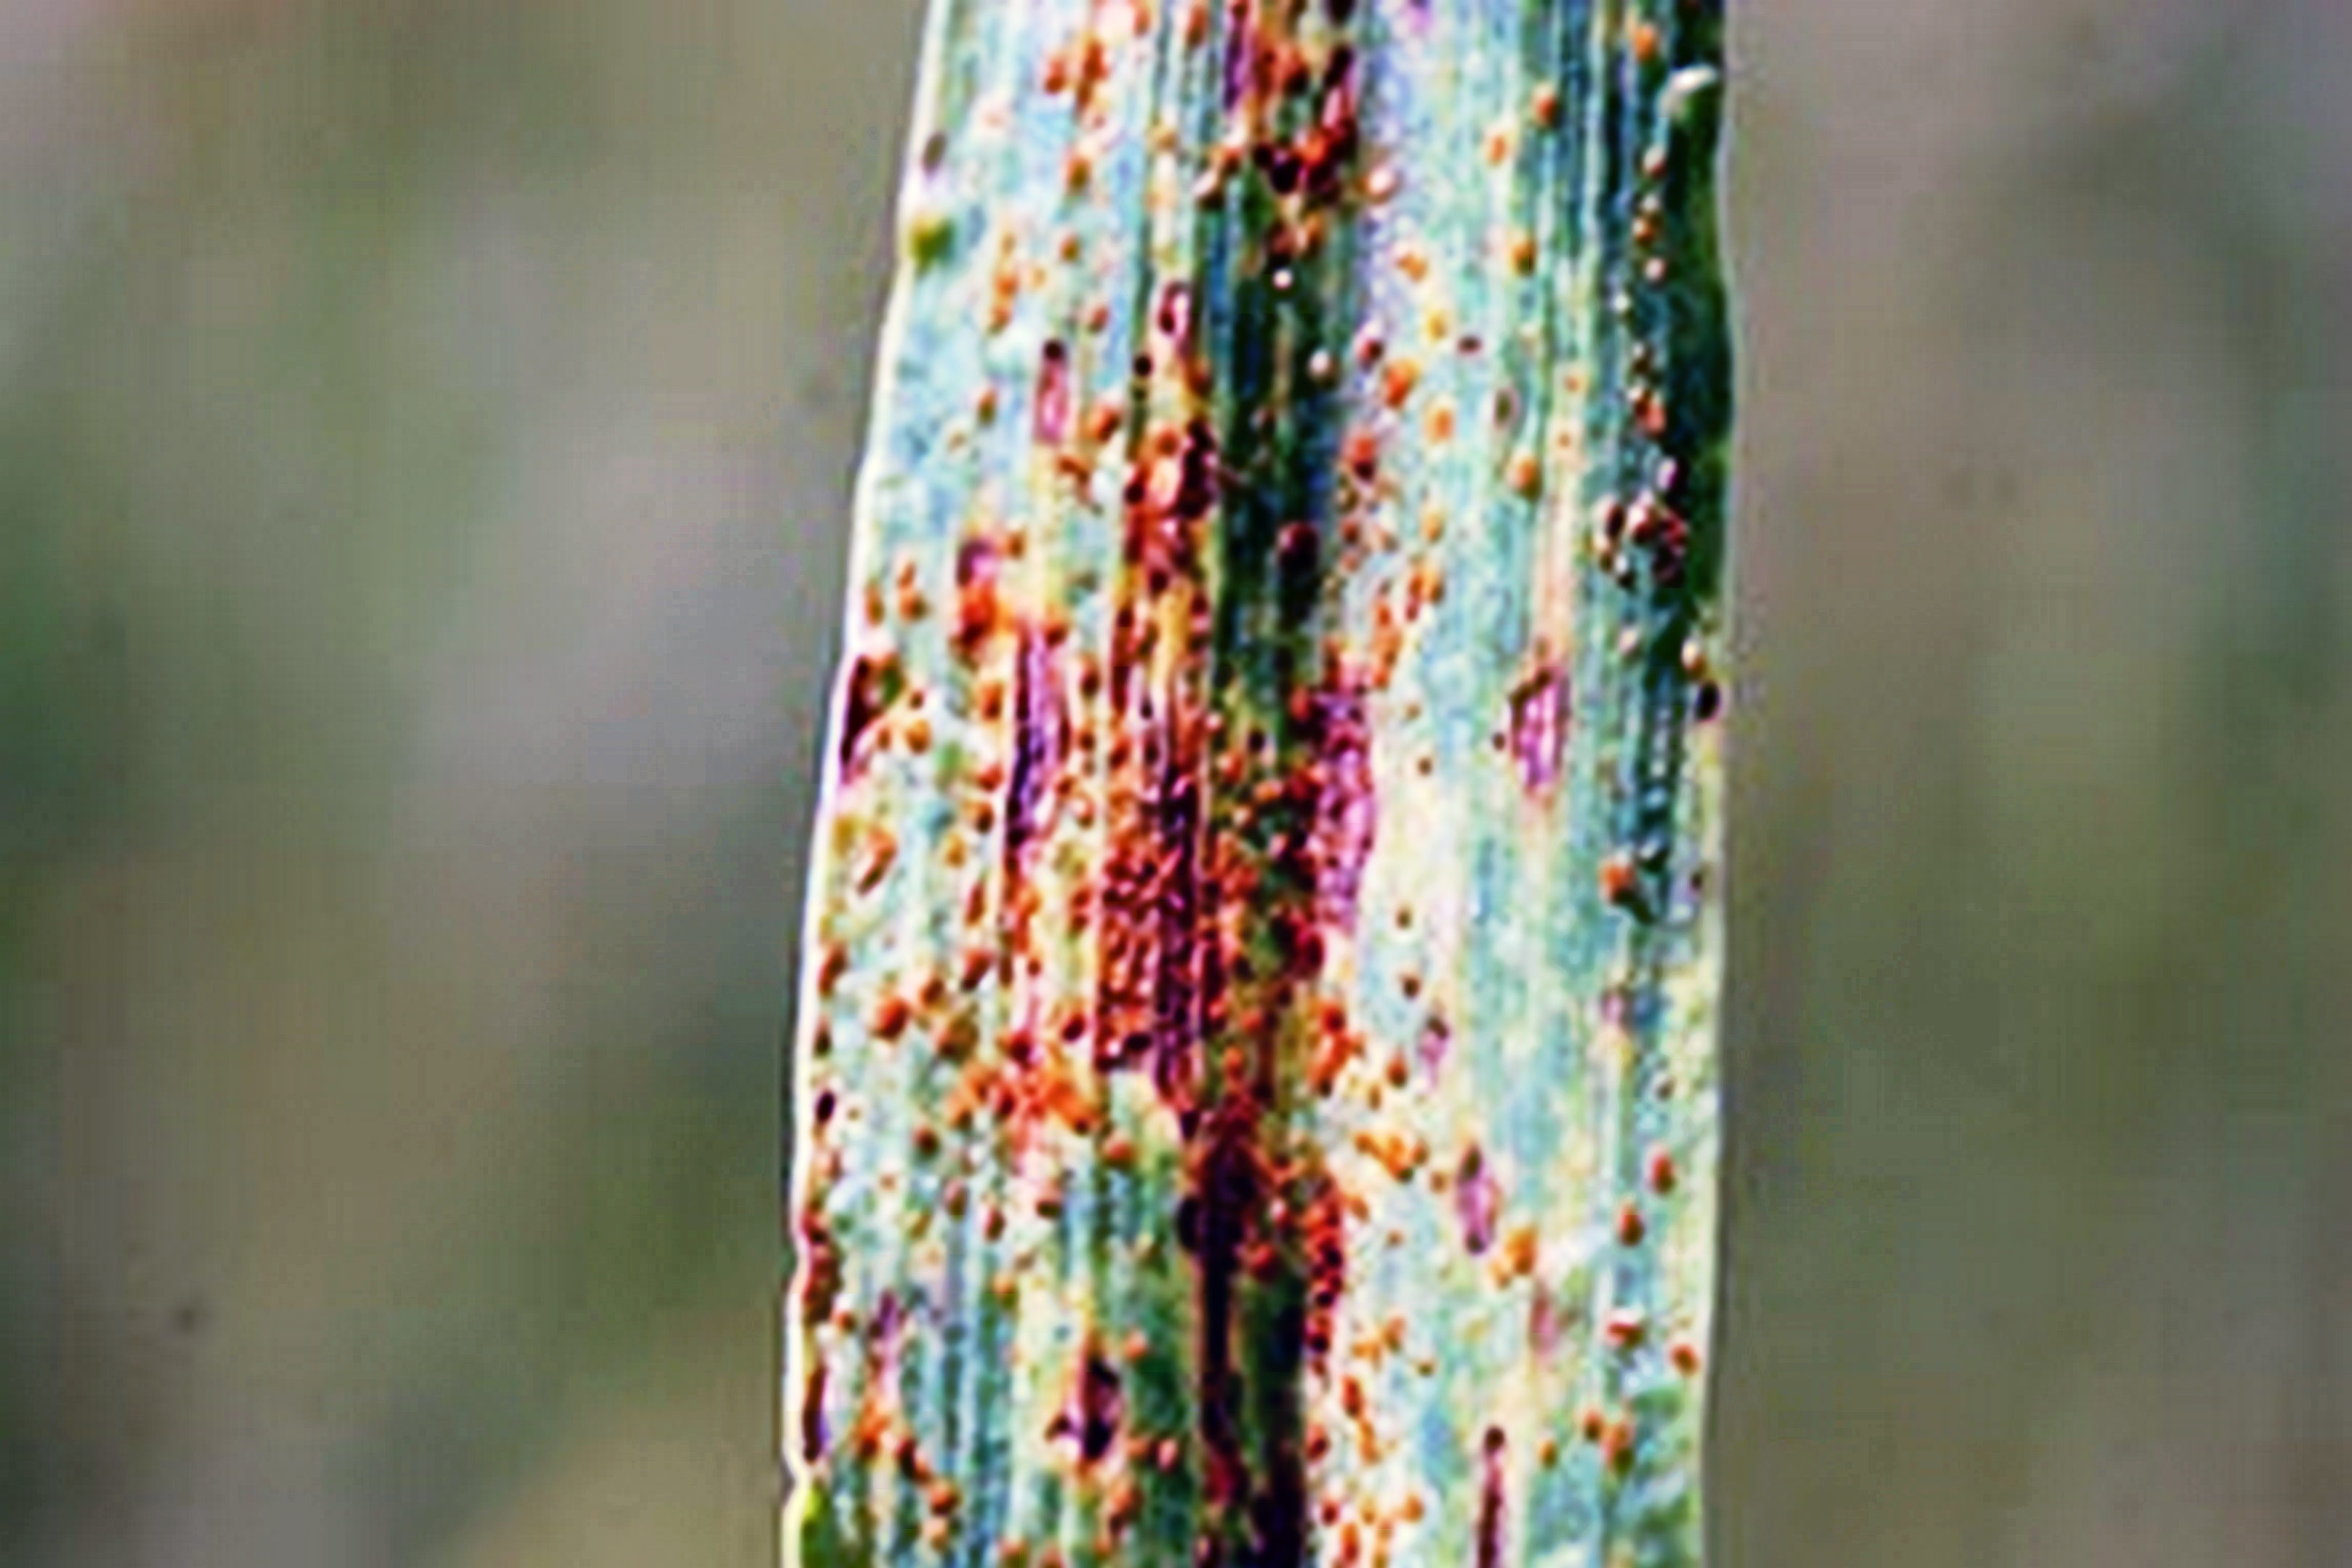Leaf Rust: (658, 310, 1813, 1498)
